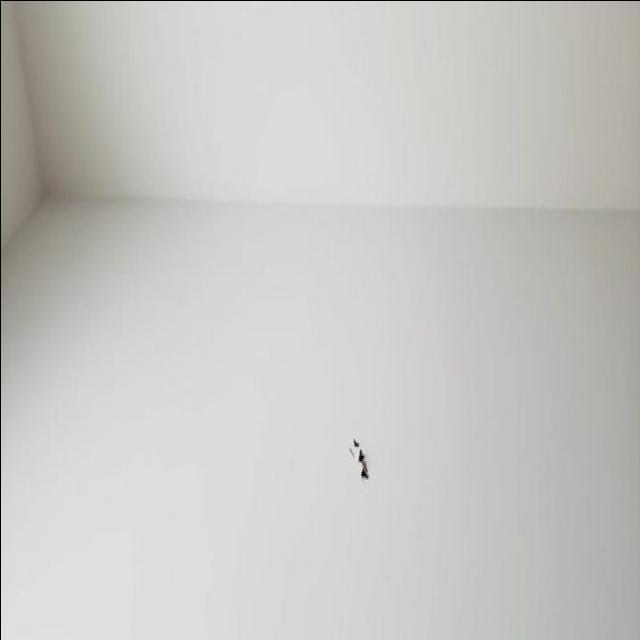Crack: (352, 439, 371, 483)
